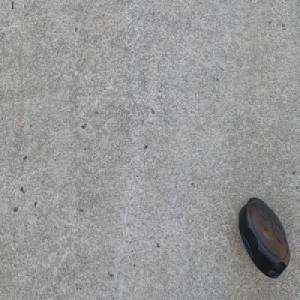FuelCap: (238, 196, 290, 279)
